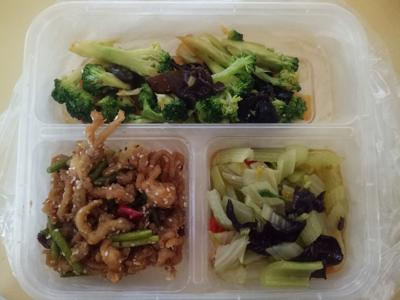czch: (74, 37, 299, 117)
r4: (46, 146, 182, 281)
